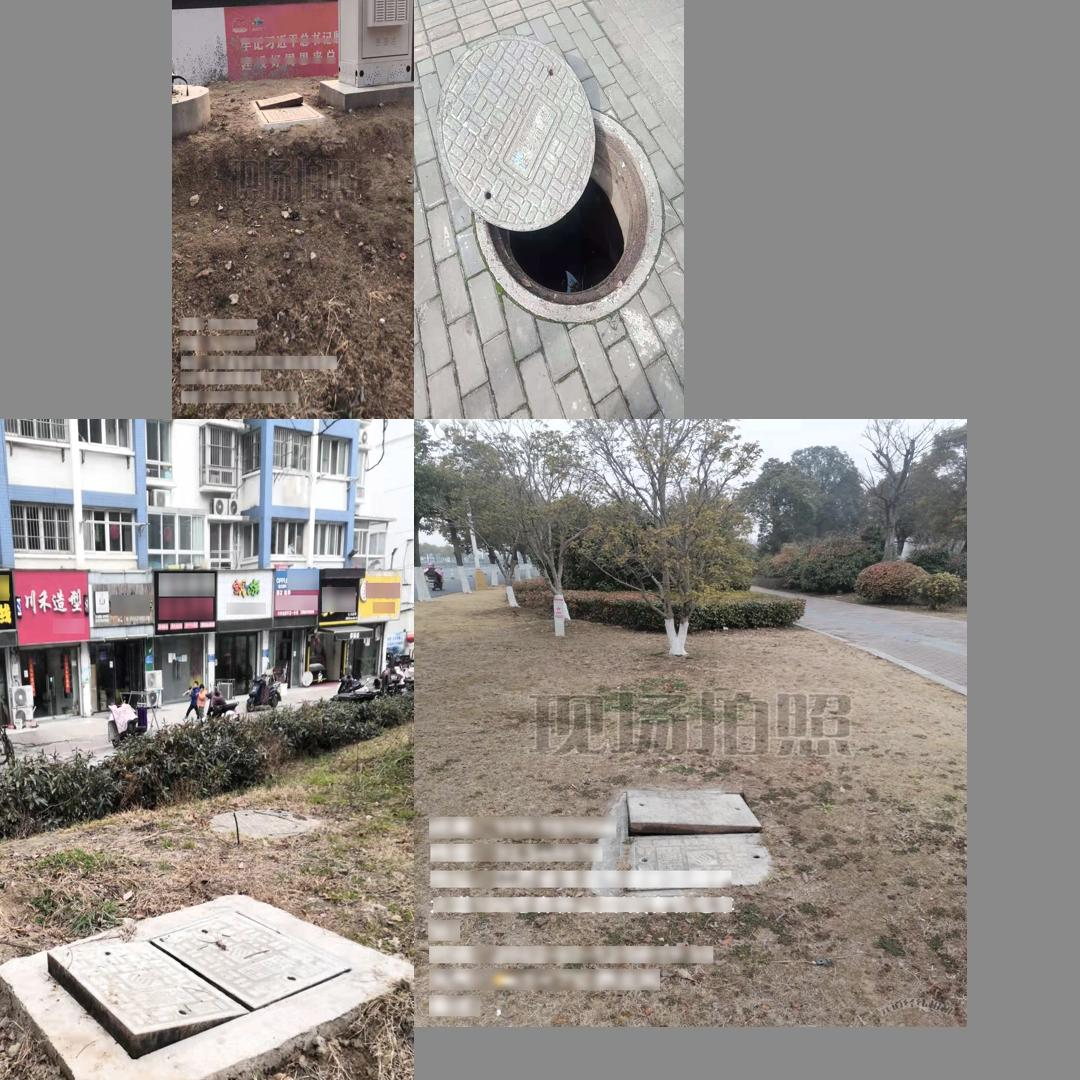uncovered: (434, 37, 671, 313), (48, 901, 353, 1061), (618, 787, 783, 895), (253, 89, 326, 122)
